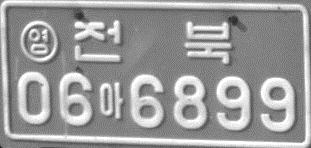0: (15, 70, 52, 125)
6: (128, 72, 165, 128), (57, 71, 93, 127)
8: (171, 74, 208, 130)
9: (213, 74, 252, 131), (258, 75, 296, 132)
아: (98, 81, 125, 121)
영: (19, 19, 60, 64)
전북_D: (71, 19, 234, 64)
